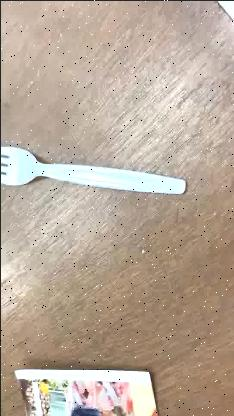Others: (0, 146, 186, 196)
